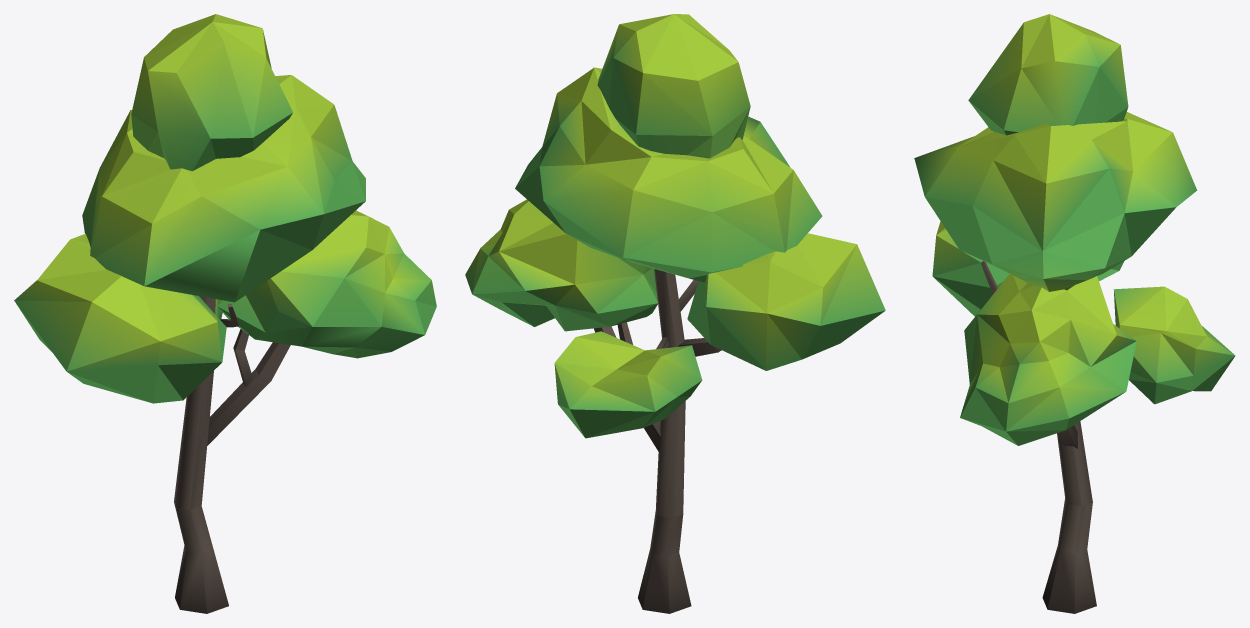
Rendered from tree_7.FBX.
The picture shows the model from 3 angles, left to right: view 1: azimuth 30°, elevation 25°; view 2: azimuth 150°, elevation 25°; view 3: azimuth 270°, elevation 25°; orthographic projection.
Parts seen in each view (by area): view 1: tree_7; view 2: tree_7; view 3: tree_7.
Boxes of the visible parts, <box> form: tree_7: <box>14,14,436,613</box>; tree_7: <box>465,14,885,613</box>; tree_7: <box>914,14,1235,613</box>.
Bounding box in the file's own units: 203 × 298 × 148.
